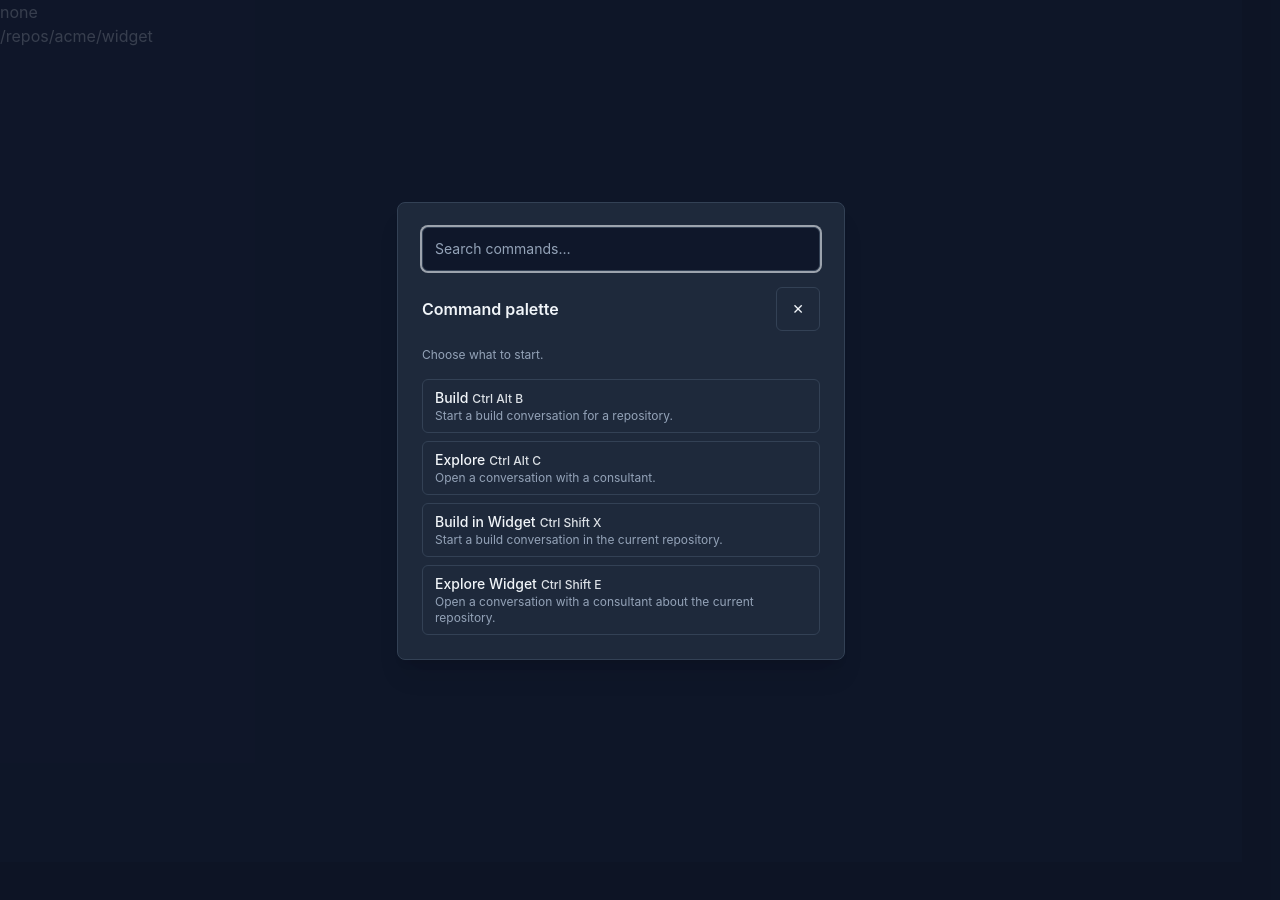
CommandPalette — root step with a current repository › choosing the scoped Explore closes the palette and opens Explore for that repository
Expected: the button with test id "palette-command-build-scoped" is shown, [422, 503, 820, 557]
Click the button with test id "palette-command-explore-scoped". click: (621, 600)
box: [422, 565, 820, 635]
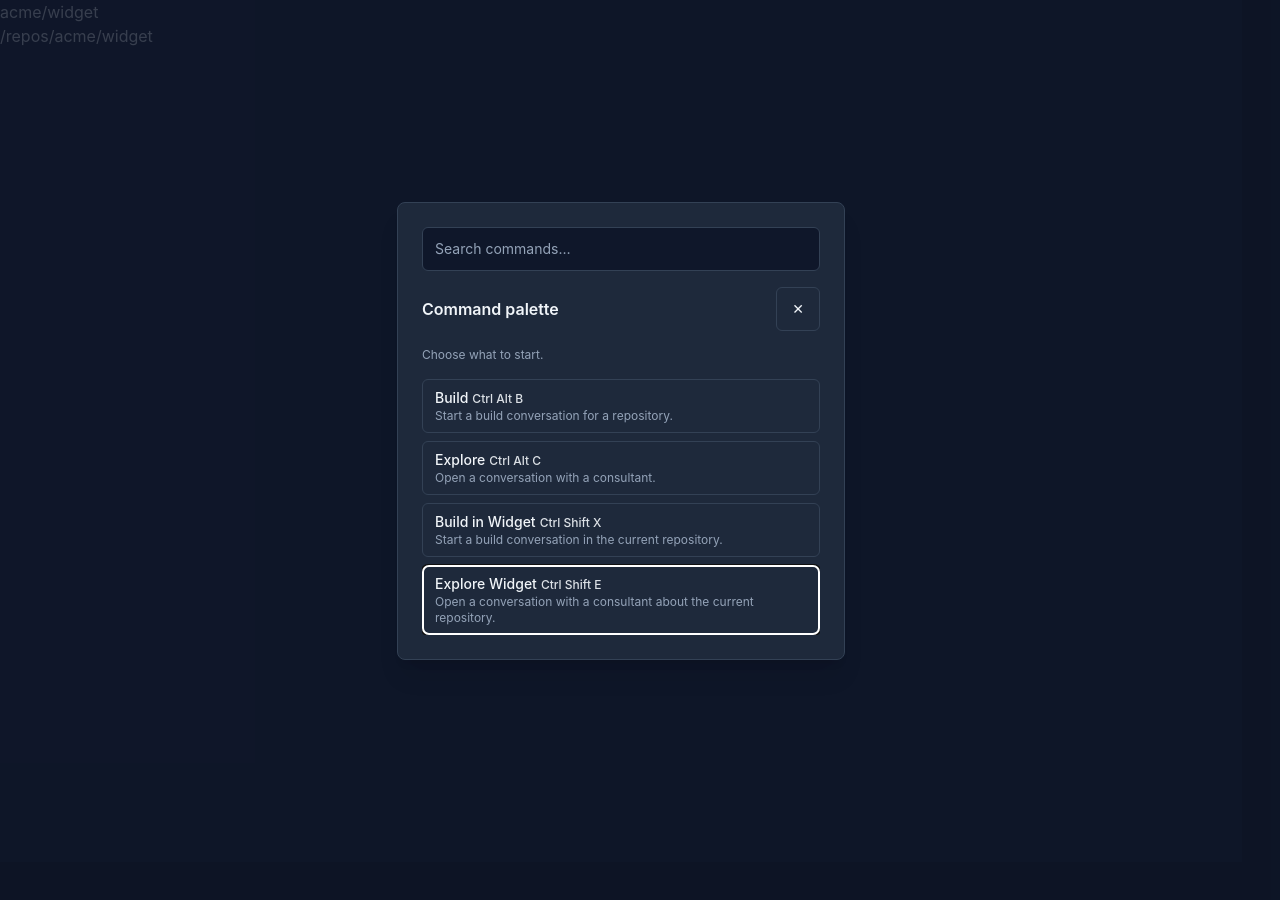
Result: the text with test id "explore-target" reads "acme/widget" at [0, 2, 98, 22]
